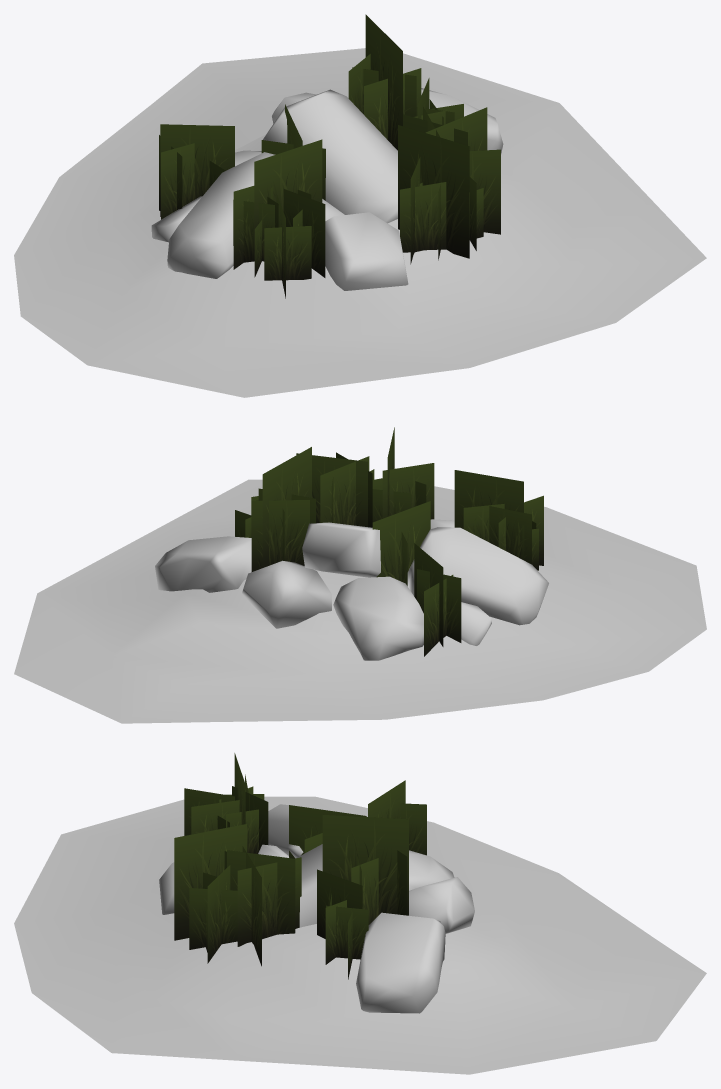
File: Soil_Bricks_Grass_03.fbx
3 views of the same model, one above another, from view 1: azimuth 30°, elevation 25°; view 2: azimuth 150°, elevation 25°; view 3: azimuth 270°, elevation 25° (orthographic). The views are drawn at different scales.
Visible parts, largest first — view 1: Soil_Bricks_Grass_03_LOD0; view 2: Soil_Bricks_Grass_03_LOD0; view 3: Soil_Bricks_Grass_03_LOD0.
Part boxes in pixels (x1,y1,x2,y2): Soil_Bricks_Grass_03_LOD0: (14,14,706,397); Soil_Bricks_Grass_03_LOD0: (14,427,706,723); Soil_Bricks_Grass_03_LOD0: (14,753,706,1074).
Size of what is drawn, in the model's own units: 7.52 by 2.05 by 7.92.
